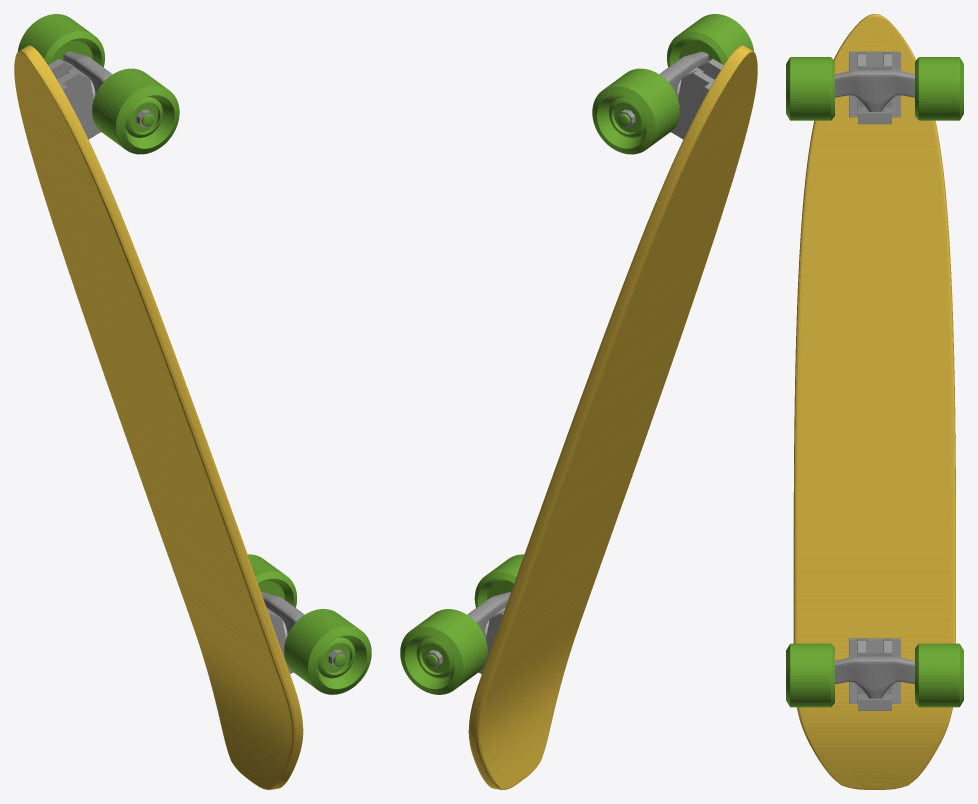
Rendered from longboard.glb.
The picture shows the model from 3 angles, left to right: view 1: azimuth 30°, elevation 25°; view 2: azimuth 150°, elevation 25°; view 3: azimuth 270°, elevation 25°; orthographic projection. The views are drawn at different scales.
Visible parts, largest first — view 1: deck, wheels, wheels2, suspension2, holder2, holder; view 2: deck, wheels, wheels2, suspension2, holder2, holder; view 3: deck, wheels2, wheels, holder, holder2, suspension2, suspension.
Boxes of the visible parts, box(x1,y1,x2,y2) form: deck: box(14, 45, 303, 789); wheels: box(18, 14, 179, 154); wheels2: box(247, 554, 371, 694); suspension2: box(48, 59, 101, 139); holder2: box(63, 51, 112, 94); holder: box(261, 592, 304, 634); deck: box(468, 45, 757, 789); wheels: box(592, 14, 753, 154); wheels2: box(400, 554, 524, 694); suspension2: box(670, 59, 723, 139); holder2: box(659, 51, 708, 94); holder: box(467, 592, 510, 634); deck: box(793, 14, 955, 789); wheels2: box(786, 643, 963, 707); wheels: box(786, 57, 963, 120); holder: box(835, 656, 914, 698); holder2: box(835, 70, 914, 111); suspension2: box(849, 51, 900, 124); suspension: box(849, 638, 900, 710).
Bounding box in the file's own units: 0.7452 × 1.88 × 0.445.
